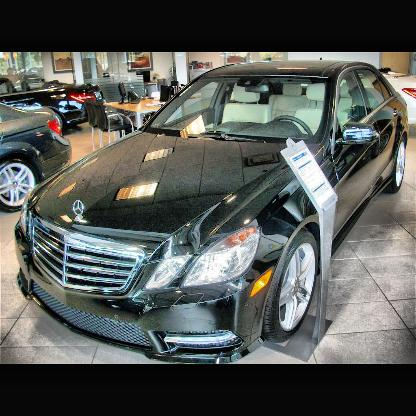Mercedes-Benz E-Class Sedan 2012: (16, 60, 411, 364)
